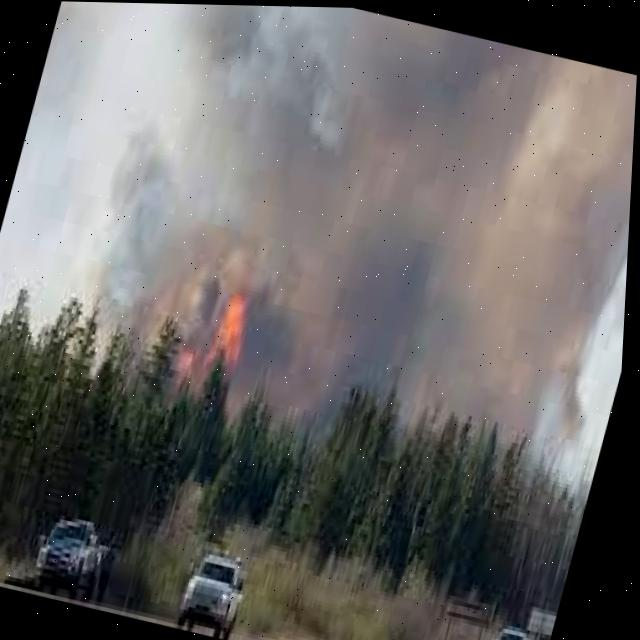smoke: (95, 3, 638, 462)
